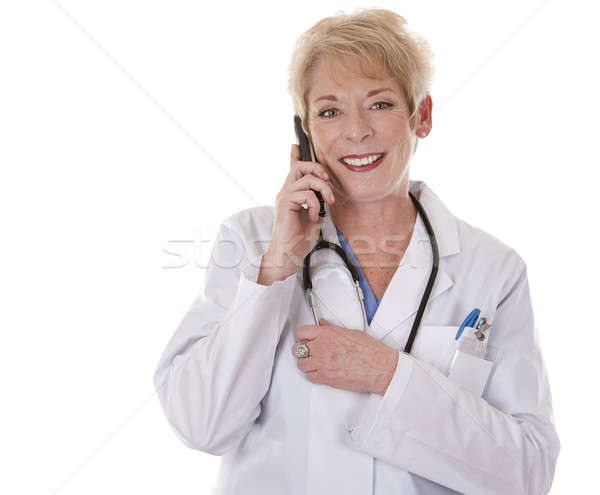phone: (285, 118, 334, 213)
talk: (268, 75, 412, 254)
